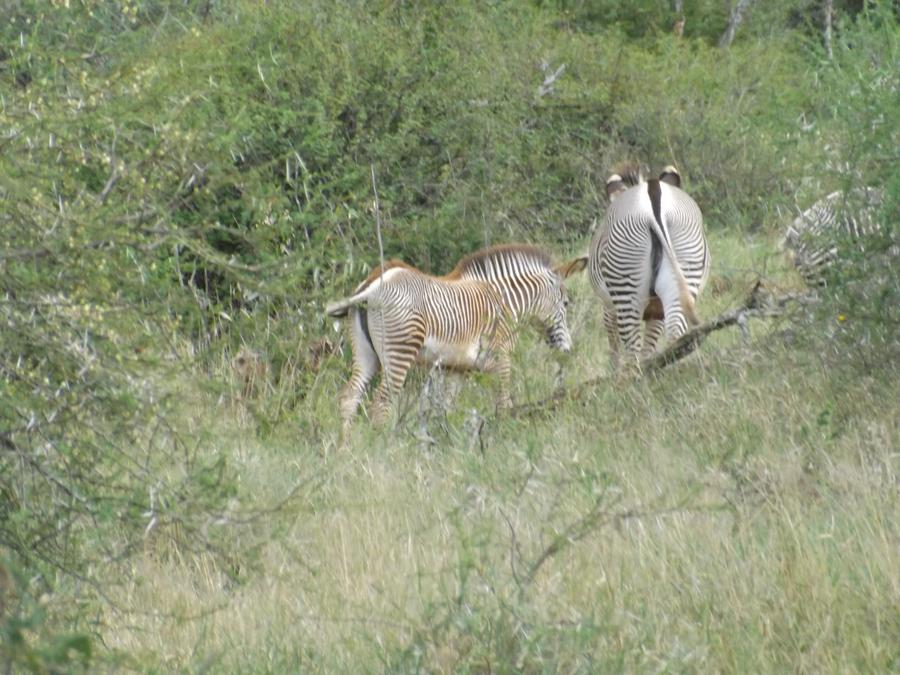zebra_grevys: (350, 252, 519, 374)
